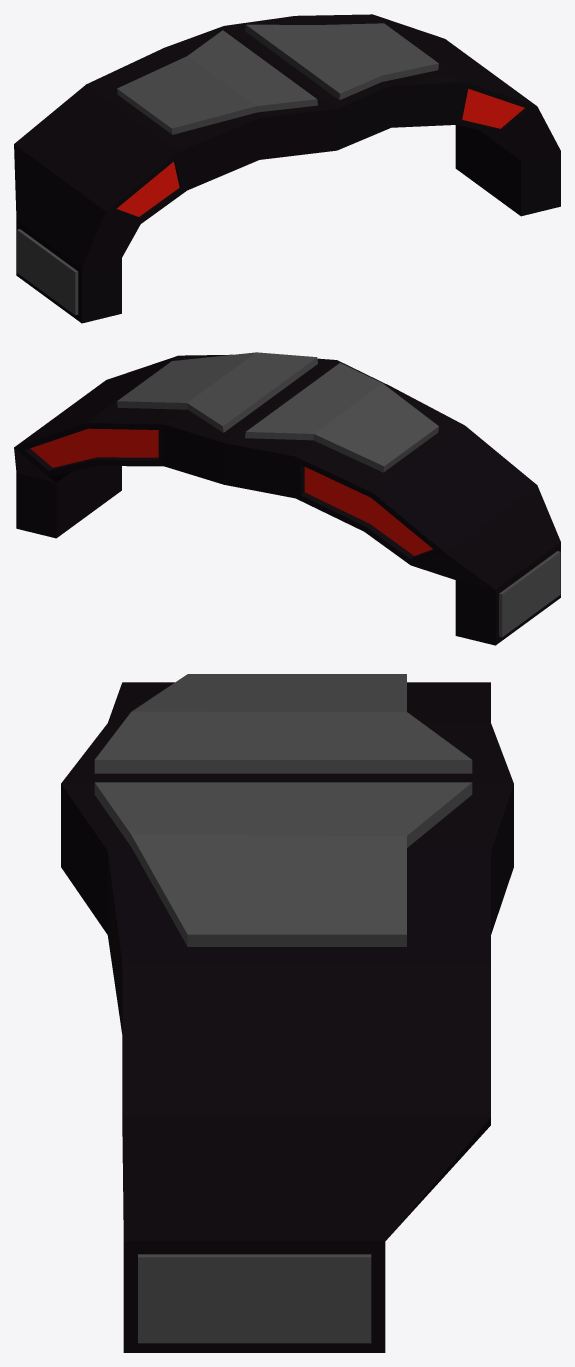
Rendered from turretpropeller.fbx.
The picture shows the model from 3 angles, top to bottom: view 1: azimuth 30°, elevation 25°; view 2: azimuth 150°, elevation 25°; view 3: azimuth 270°, elevation 25°; orthographic projection. The views are drawn at different scales.
Visible parts, largest first — view 1: Properllor; view 2: Properllor; view 3: Properllor.
Part boxes in pixels (box(x1,y1,x2,y2)): Properllor: box(14, 14, 560, 323); Properllor: box(14, 352, 560, 645); Properllor: box(61, 674, 513, 1352).
Size of the model in its own units: 428 by 147 by 173.
